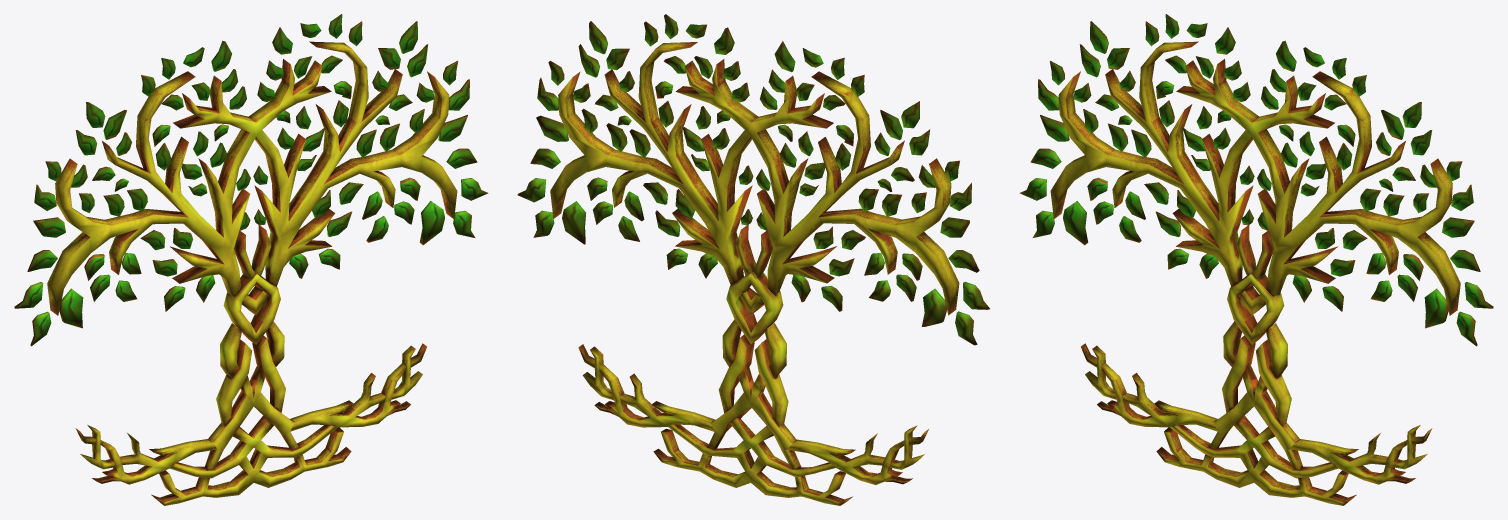
The model's file is mountain_env_tree.gltf.
3 views of the same model, side by side, from view 1: azimuth 30°, elevation 25°; view 2: azimuth 150°, elevation 25°; view 3: azimuth 330°, elevation 25° (orthographic).
Parts seen in each view (by area): view 1: mountain_env_tree_glb; view 2: mountain_env_tree_glb; view 3: mountain_env_tree_glb.
Boxes of the visible parts, x1=… form: mountain_env_tree_glb: x1=14, y1=14, x2=488, y2=505; mountain_env_tree_glb: x1=517, y1=14, x2=989, y2=505; mountain_env_tree_glb: x1=1019, y1=14, x2=1493, y2=505.
Size of what is drawn, in the model's own units: 4.38 by 4.03 by 0.1593.
Materials: 1 (1 with a texture image).
